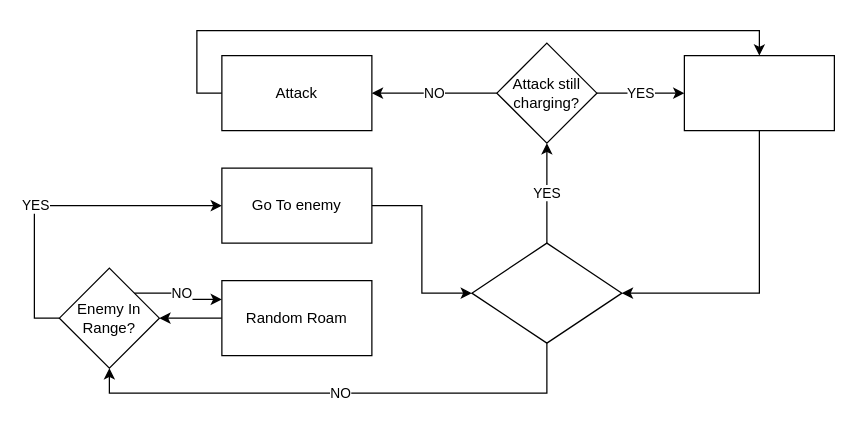
This 856x425 diagram has some shape labels left out. The centre of each missing label's shape, as x and y in pixels:
"Avoid" belongs at point 758,92.
"Enemy in attack range?" belongs at point 546,292.
